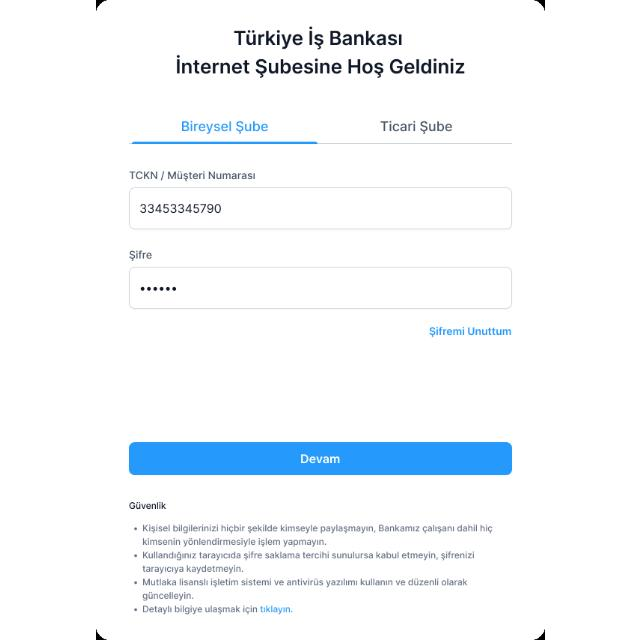QLabel: (166, 52, 470, 82), (224, 26, 421, 50), (132, 550, 476, 562), (132, 576, 468, 588), (132, 524, 496, 534), (168, 116, 274, 136), (140, 537, 328, 547), (125, 169, 255, 181), (374, 119, 454, 138), (423, 324, 513, 340), (130, 604, 256, 614), (138, 564, 244, 574), (296, 451, 342, 467), (140, 592, 197, 600), (126, 500, 166, 510), (259, 605, 293, 615), (126, 250, 152, 260)
VBtn: (130, 443, 512, 475)
VCard: (96, 0, 544, 640)
VTabs: (121, 109, 524, 348)
VTextField: (130, 267, 514, 311), (130, 188, 514, 232)
